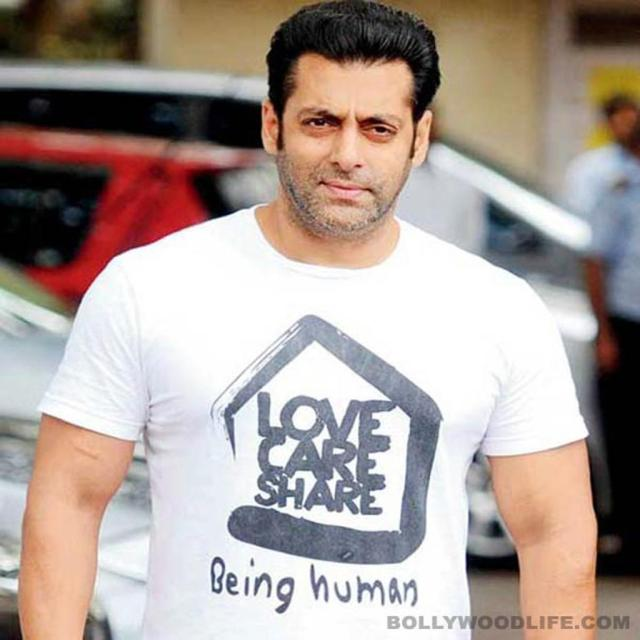Face: (270, 46, 444, 245)
